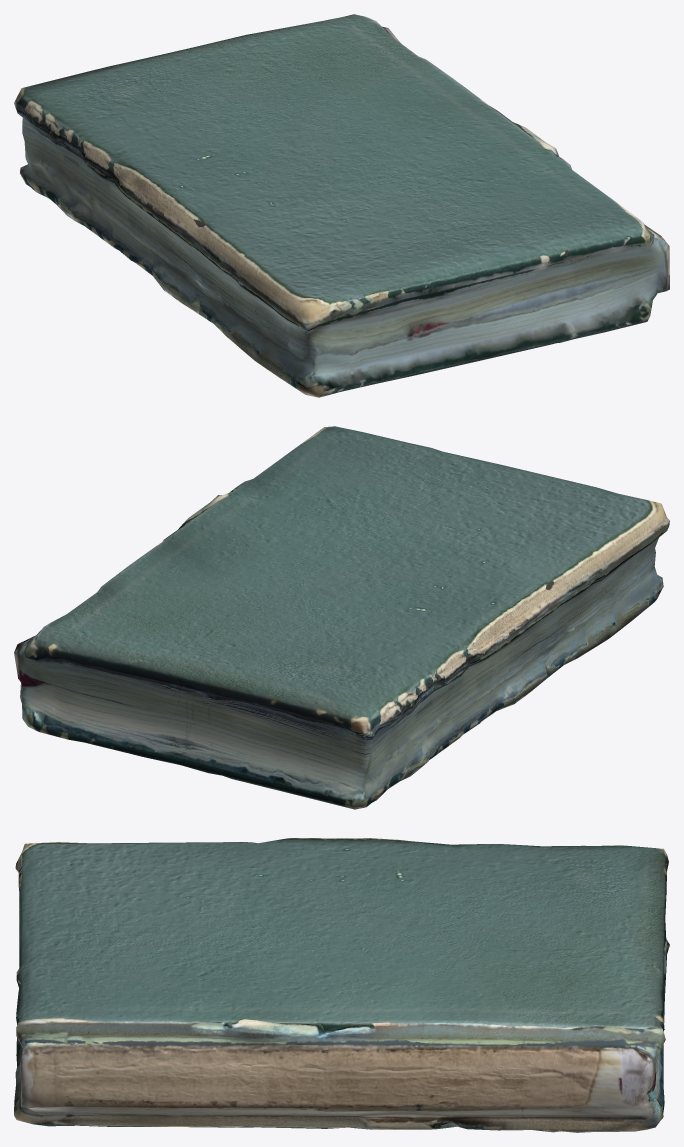
3 views of the same model, one above another, from view 1: azimuth 30°, elevation 25°; view 2: azimuth 150°, elevation 25°; view 3: azimuth 270°, elevation 25° (orthographic). The views are drawn at different scales.
Parts seen in each view (by area): view 1: LP; view 2: LP; view 3: LP.
Part boxes in pixels (x1,y1,x2,y2): LP: (14, 14, 669, 397); LP: (14, 426, 669, 809); LP: (14, 838, 669, 1132).
Bounding box in the file's own units: 21.84 × 5.89 × 30.85.
